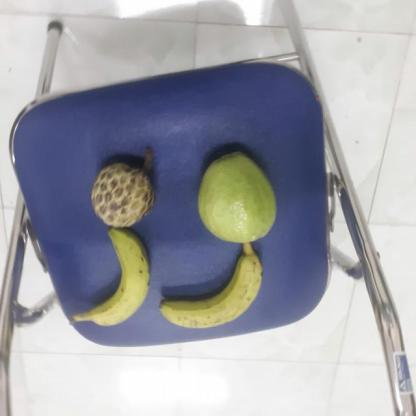annona: (91, 162, 157, 228)
banana: (160, 247, 267, 328), (82, 226, 154, 326)
guava: (198, 151, 282, 244)
